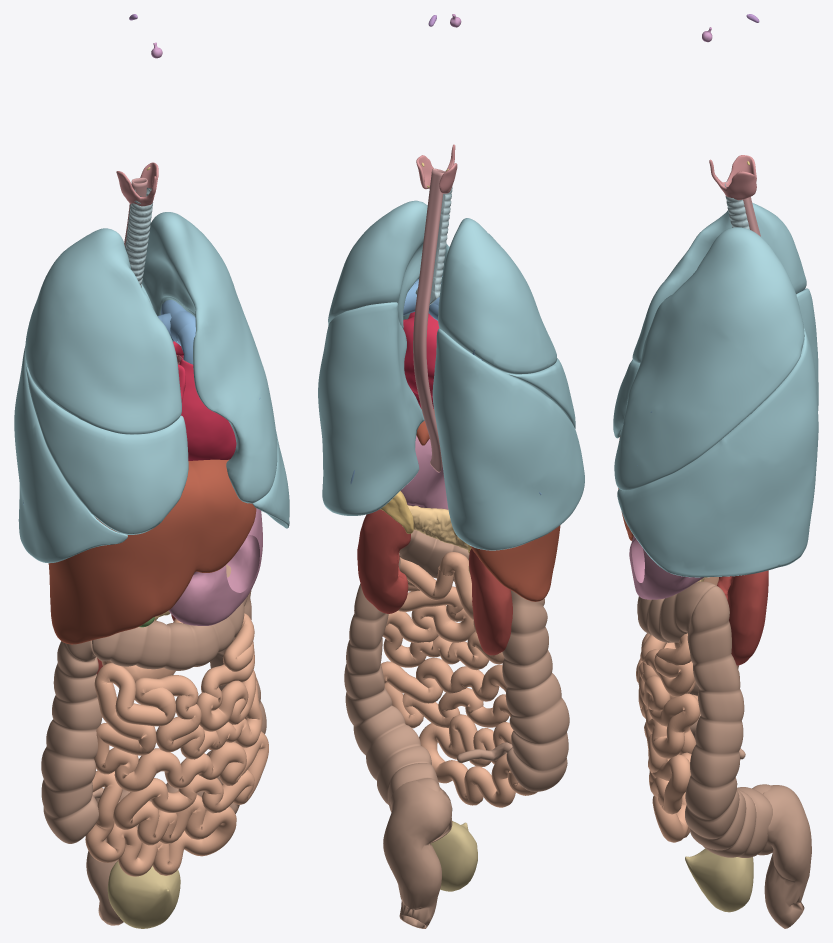
File: triangle2m-v49-organs-enlarged-v28.glb
3 views of the same model, side by side, from view 1: azimuth 30°, elevation 25°; view 2: azimuth 150°, elevation 25°; view 3: azimuth 270°, elevation 25° (orthographic). The views are drawn at different scales.
Parts seen in each view (by area): view 1: small-intestine-jejunum__Jejunum, lungs-superior-lobe-of-right-lung__Superior_lobe_of_right_lu, liver__Liver, lungs-superior-lobe-of-left-lung__Superior_lobe_of_left_lung, lungs-middle-lobe-of-right-lung__Middle_lobe_of_right_lung, large-intestine-ascending-colon__Ascending_colon, lungs-inferior-lobe-of-right-lung__Inferior_lobe_of_right_lu, large-intestine-transverse-colon__Transverse_colon, stomach__Stomach, bladder__Urinary_bladder, heart-right-ventricle__Right_ventricle, trachea__Trachea (+5 smaller); view 2: lungs-inferior-lobe-of-right-lung__Inferior_lobe_of_right_lu, small-intestine-jejunum__Jejunum, lungs-inferior-lobe-of-left-lung__Inferior_lobe_of_left_lung, lungs-superior-lobe-of-right-lung__Superior_lobe_of_right_lu, large-intestine-ascending-colon__Ascending_colon, large-intestine-descending-colon__Descending_colon, lungs-superior-lobe-of-left-lung__Superior_lobe_of_left_lung, large-intestine-sigmoid-colon__Sigmoid_colon, kidneys-kidney-left__Kidneyl, oesophagus__Oesophagus, liver__Liver, kidneys-kidney-right__Kidneyr (+11 smaller); view 3: lungs-superior-lobe-of-left-lung__Superior_lobe_of_left_lung, lungs-inferior-lobe-of-left-lung__Inferior_lobe_of_left_lung, large-intestine-descending-colon__Descending_colon, small-intestine-jejunum__Jejunum, large-intestine-sigmoid-colon__Sigmoid_colon, lungs-superior-lobe-of-right-lung__Superior_lobe_of_right_lu, bladder__Urinary_bladder, kidneys-kidney-left__Kidneyl, large-intestine-transverse-colon__Transverse_colon, stomach__Stomach, thyroid-gland__Thyroid_gland, lungs-inferior-lobe-of-right-lung__Inferior_lobe_of_right_lu (+2 smaller).
Boxes of the visible parts, box(x1,y1,x2,y2) form: small-intestine-jejunum__Jejunum: box(85, 613, 268, 876); lungs-superior-lobe-of-right-lung__Superior_lobe_of_right_lu: box(25, 228, 181, 434); liver__Liver: box(48, 459, 256, 644); lungs-superior-lobe-of-left-lung__Superior_lobe_of_left_lung: box(141, 212, 277, 503); lungs-middle-lobe-of-right-lung__Middle_lobe_of_right_lung: box(26, 366, 188, 534); large-intestine-ascending-colon__Ascending_colon: box(41, 640, 102, 843); lungs-inferior-lobe-of-right-lung__Inferior_lobe_of_right_lu: box(14, 346, 127, 563); large-intestine-transverse-colon__Transverse_colon: box(92, 564, 247, 670); stomach__Stomach: box(168, 508, 262, 625); bladder__Urinary_bladder: box(107, 861, 180, 928); heart-right-ventricle__Right_ventricle: box(179, 356, 236, 460); trachea__Trachea: box(125, 187, 153, 287); lungs-inferior-lobe-of-right-lung__Inferior_lobe_of_right_lu: box(432, 328, 584, 550); small-intestine-jejunum__Jejunum: box(381, 557, 537, 807); lungs-inferior-lobe-of-left-lung__Inferior_lobe_of_left_lung: box(318, 302, 424, 515); lungs-superior-lobe-of-right-lung__Superior_lobe_of_right_lu: box(438, 218, 557, 374); large-intestine-ascending-colon__Ascending_colon: box(502, 590, 569, 791); large-intestine-descending-colon__Descending_colon: box(344, 557, 452, 843); lungs-superior-lobe-of-left-lung__Superior_lobe_of_left_lung: box(328, 200, 449, 328); large-intestine-sigmoid-colon__Sigmoid_colon: box(383, 780, 452, 928); kidneys-kidney-left__Kidneyl: box(357, 509, 410, 613); oesophagus__Oesophagus: box(413, 168, 444, 472); liver__Liver: box(416, 409, 560, 601); kidneys-kidney-right__Kidneyr: box(469, 548, 512, 655); lungs-superior-lobe-of-left-lung__Superior_lobe_of_left_lung: box(614, 227, 804, 490); lungs-inferior-lobe-of-left-lung__Inferior_lobe_of_left_lung: box(617, 327, 818, 577); large-intestine-descending-colon__Descending_colon: box(685, 585, 773, 857); small-intestine-jejunum__Jejunum: box(636, 633, 700, 842); large-intestine-sigmoid-colon__Sigmoid_colon: box(763, 785, 811, 928); lungs-superior-lobe-of-right-lung__Superior_lobe_of_right_lu: box(632, 203, 806, 363); bladder__Urinary_bladder: box(685, 848, 753, 912); kidneys-kidney-left__Kidneyl: box(727, 570, 768, 665); large-intestine-transverse-colon__Transverse_colon: box(637, 581, 716, 642); stomach__Stomach: box(629, 536, 703, 599); thyroid-gland__Thyroid_gland: box(709, 155, 756, 200); lungs-inferior-lobe-of-right-lung__Inferior_lobe_of_right_lu: box(796, 288, 818, 410).
Bounding box in the file's own units: 0.1174 × 0.44 × 0.0898.
